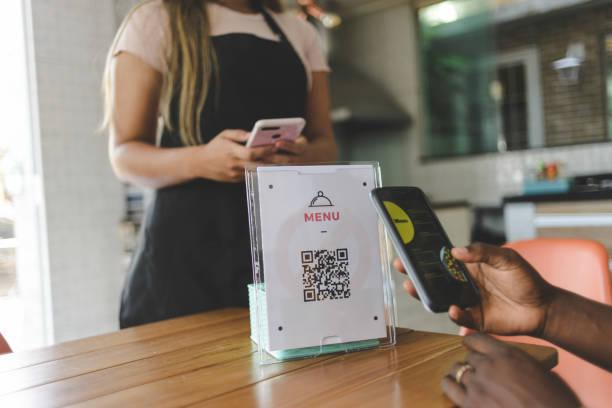Finder pattern: (301, 287, 320, 305), (298, 248, 316, 265), (334, 247, 351, 264)
